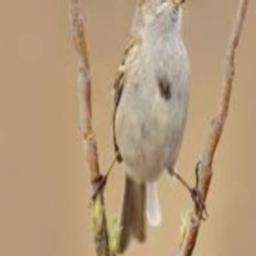Sparrow: (91, 0, 207, 252)
